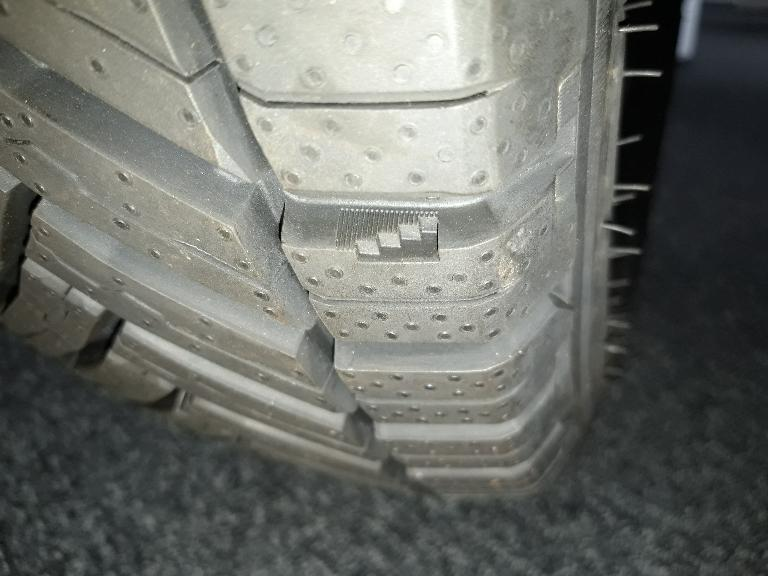temoin:100: (333, 205, 446, 266)
